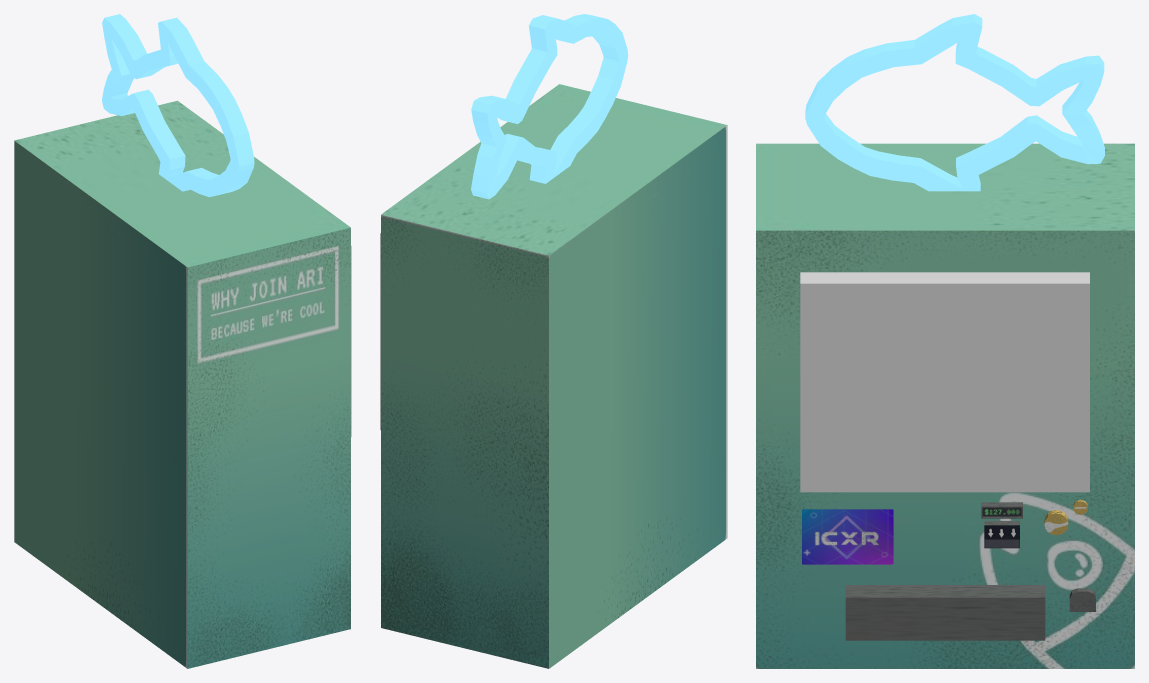
File: fish_vending 1.fbx
3 renders of one model, left to right at view 1: azimuth 30°, elevation 25°; view 2: azimuth 150°, elevation 25°; view 3: azimuth 270°, elevation 25°, orthographic. The views are drawn at different scales.
Visible parts, largest first — view 1: Cube.035, Cube.036; view 2: Cube.035, Cube.036; view 3: Cube.035, Cube.037, Cube.036, Cube.038, Cube.040, Cube.043, Cube.042, Cube.041.
Boxes of the visible parts, bbox=[...] form: Cube.035: bbox=[14, 100, 350, 668]; Cube.036: bbox=[102, 14, 254, 197]; Cube.035: bbox=[381, 84, 727, 668]; Cube.036: bbox=[471, 14, 628, 199]; Cube.035: bbox=[756, 143, 1134, 668]; Cube.037: bbox=[800, 272, 1089, 492]; Cube.036: bbox=[805, 14, 1104, 191]; Cube.038: bbox=[845, 585, 1045, 640]; Cube.040: bbox=[802, 509, 893, 564]; Cube.043: bbox=[984, 521, 1019, 548]; Cube.042: bbox=[981, 502, 1022, 518]; Cube.041: bbox=[1069, 588, 1095, 611].
Size of the model in its own units: 89.35 by 253 by 143.
3 materials, 1 textured.
